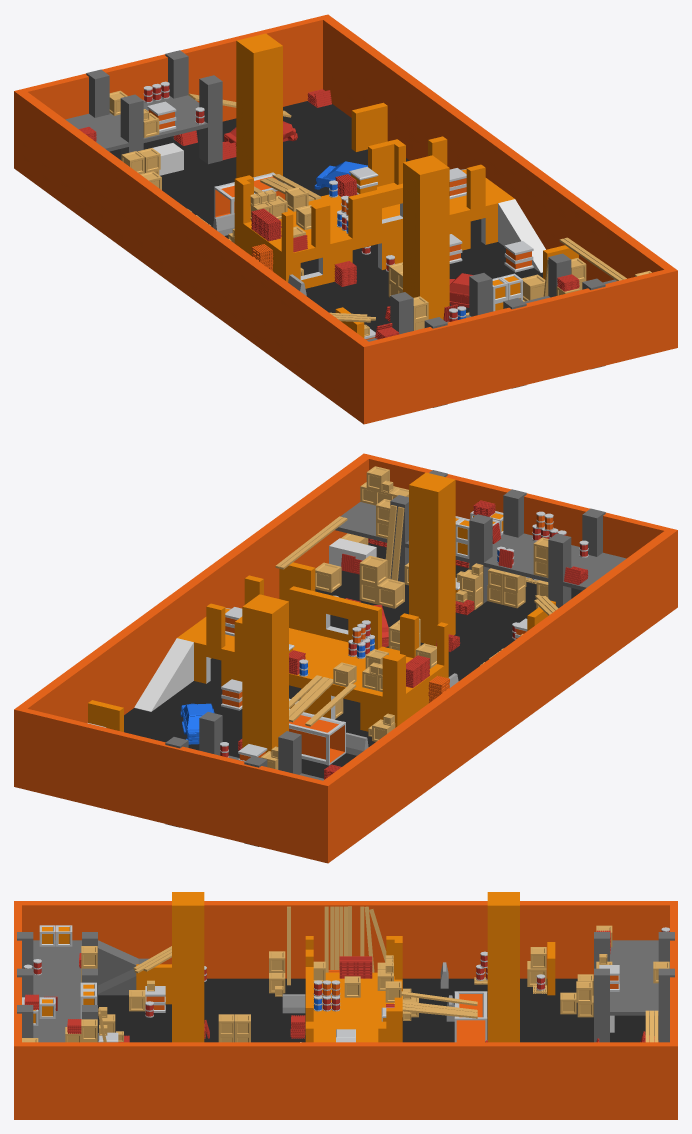
The model's file is map_2.fbx.
The picture shows the model from 3 angles, top to bottom: view 1: azimuth 30°, elevation 25°; view 2: azimuth 150°, elevation 25°; view 3: azimuth 270°, elevation 25°; orthographic projection. The views are drawn at different scales.
Visible parts, largest first — view 1: Main; view 2: Main; view 3: Main.
Boxes of the visible parts, left/top/right/bottom form: Main: left=14, top=14, right=677, bottom=424; Main: left=14, top=453, right=677, bottom=863; Main: left=14, top=892, right=677, bottom=1119.
Bounding box in the file's own units: 850 × 405 × 1640.
